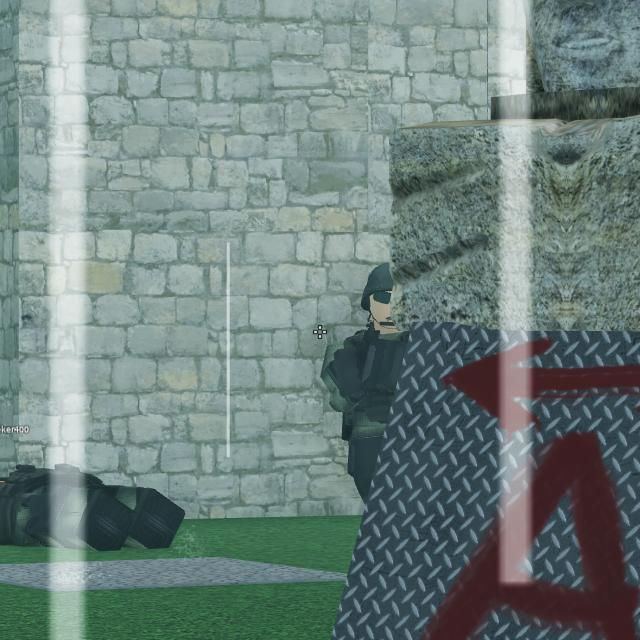Head: (363, 265, 419, 332)
Player: (322, 265, 427, 523)
